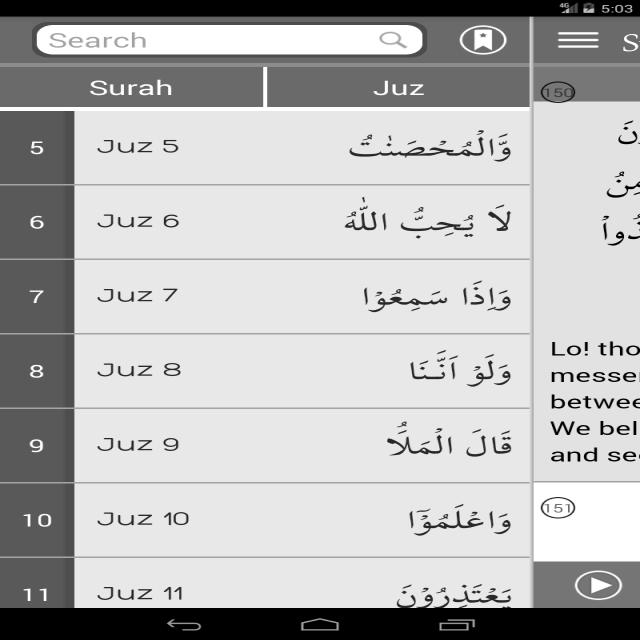EditText: (34, 24, 425, 58)
ImageButton: (456, 23, 518, 57), (550, 26, 606, 54)
TextView: (353, 123, 521, 611), (85, 134, 187, 606), (21, 132, 56, 612), (542, 334, 632, 466), (594, 124, 632, 242), (72, 75, 184, 99), (572, 565, 638, 605), (363, 76, 445, 100), (540, 497, 574, 519)
